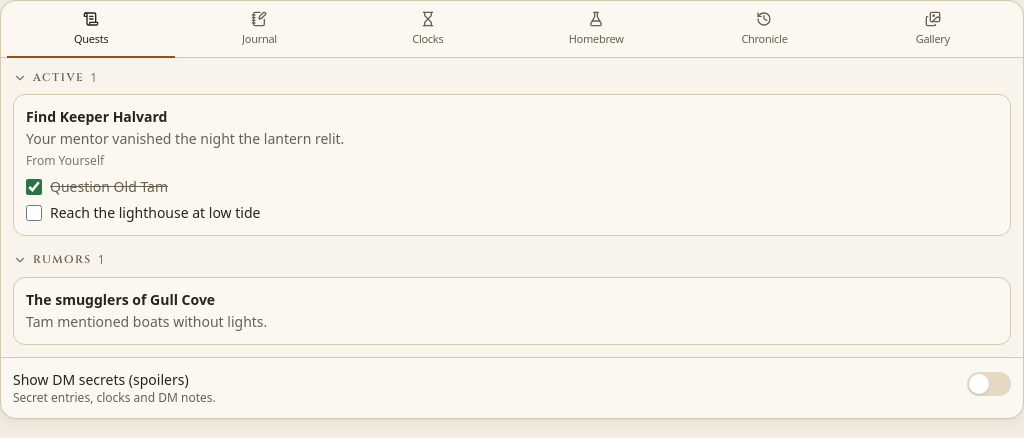
it: JournalPanel › draws clocks and hides secret ones unless spoilers are on
Click the tab "Clocks" at (428, 31), box [344,5,512,58]
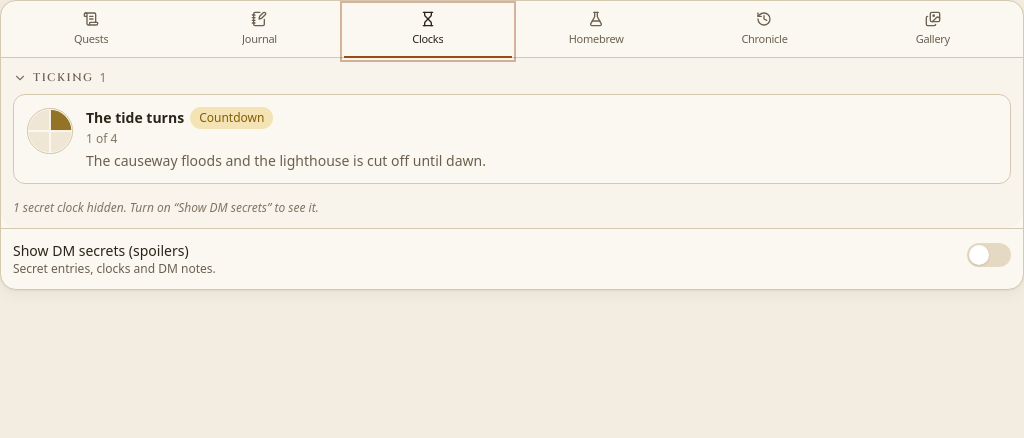
Expected: the text "Something stirs below" is not shown
Now the picture named "The tide turns: 1 of 4 segments filled" is shown, box [26,107,74,155]
Now the text "1 secret clock hidden. Turn on “Show DM secrets” to see it." is shown, box [13,199,319,216]
Click the switch named "Show DM secrets (spoilers)" at (989, 255), box [967,243,1011,267]
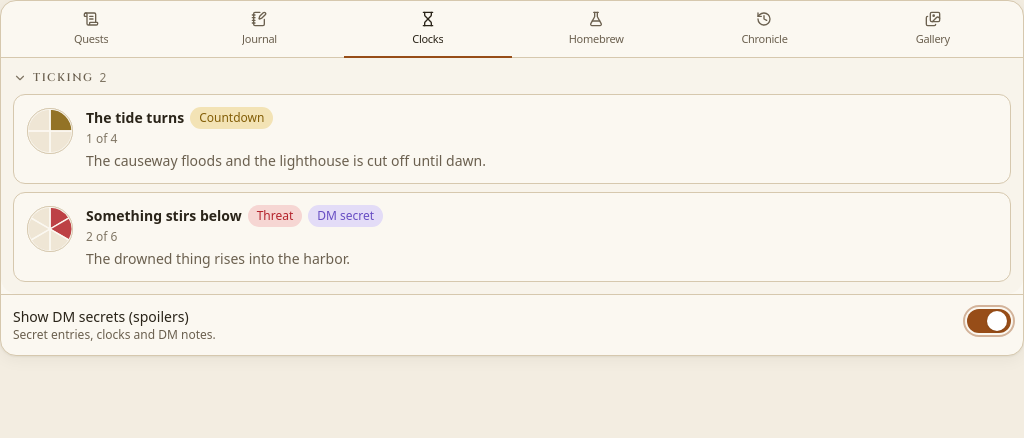
Now the picture named "Something stirs below: 2 of 6 segments filled" is shown, box [26,205,74,253]
